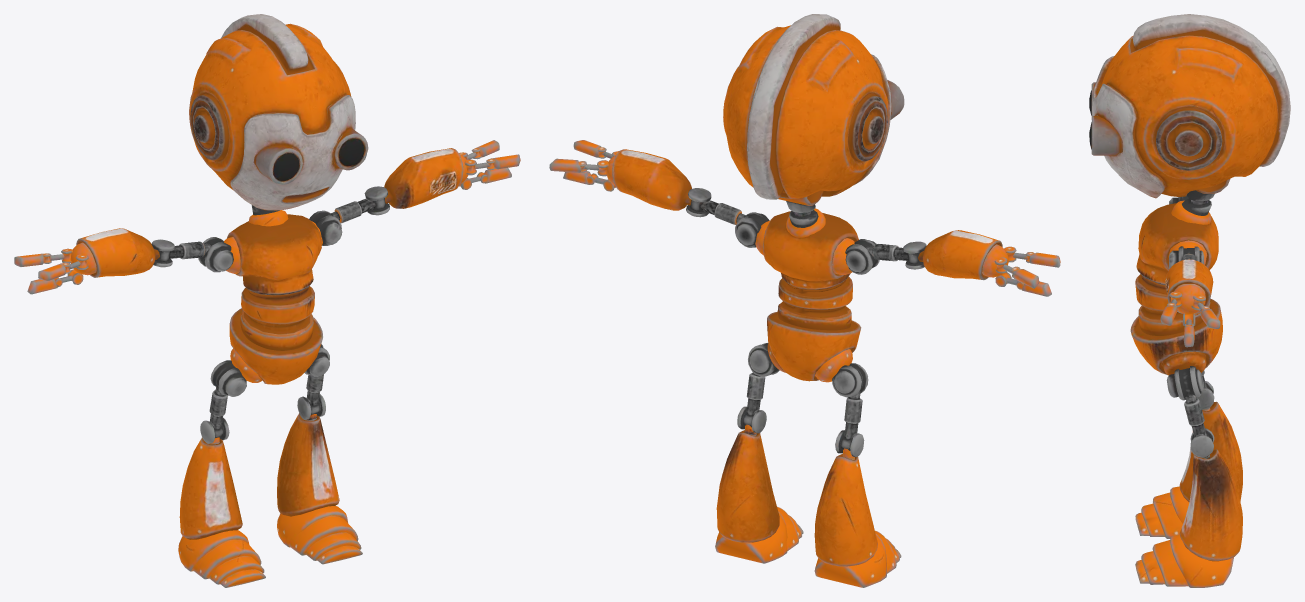
Rendered from Prog_Robot3.glb.
3 views of the same model, side by side, from view 1: azimuth 30°, elevation 25°; view 2: azimuth 150°, elevation 25°; view 3: azimuth 270°, elevation 25° (orthographic).
Visible parts, largest first — view 1: Object_2; view 2: Object_2; view 3: Object_2.
Boxes of the visible parts, left/top/right/bottom form: Object_2: left=14, top=14, right=520, bottom=587; Object_2: left=549, top=14, right=1060, bottom=587; Object_2: left=1089, top=14, right=1290, bottom=587.
Size of the model in its own units: 12.46 by 13.13 by 4.48.
Materials: 1 (1 with a texture image).
